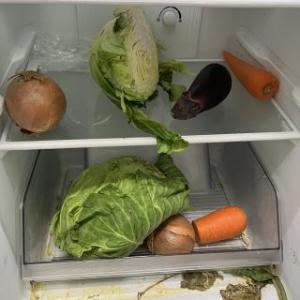cabbage: (48, 152, 194, 262), (88, 2, 172, 128)
carrot: (222, 51, 280, 103), (190, 205, 249, 247)
eggplant: (169, 63, 235, 121)
onion: (0, 70, 68, 136), (144, 214, 198, 258)
